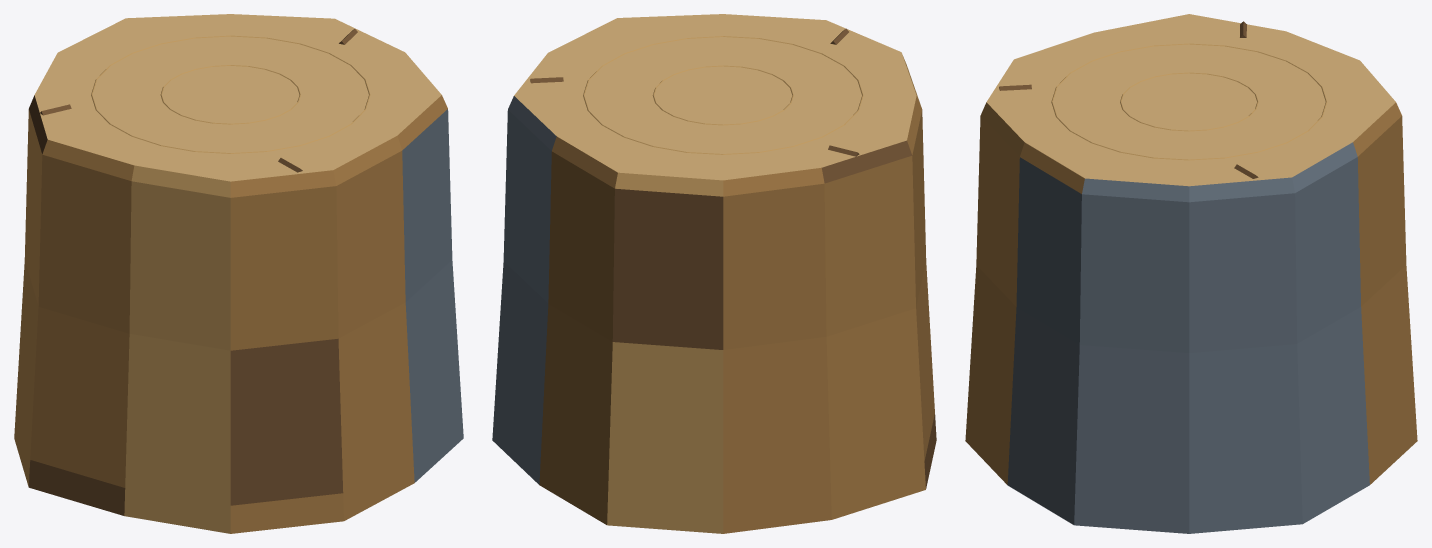
Rendered from SM_CampLogStool.fbx.
3 renders of one model, left to right at view 1: azimuth 30°, elevation 25°; view 2: azimuth 150°, elevation 25°; view 3: azimuth 270°, elevation 25°, orthographic.
Visible parts, largest first — view 1: SM_CampLogStool; view 2: SM_CampLogStool; view 3: SM_CampLogStool.
Boxes of the visible parts, x1,y1,x2,y2 form: SM_CampLogStool: [14, 14, 463, 533]; SM_CampLogStool: [492, 14, 936, 533]; SM_CampLogStool: [965, 14, 1417, 533].
Bounding box in the file's own units: 0.6555 × 0.6588 × 0.55.
